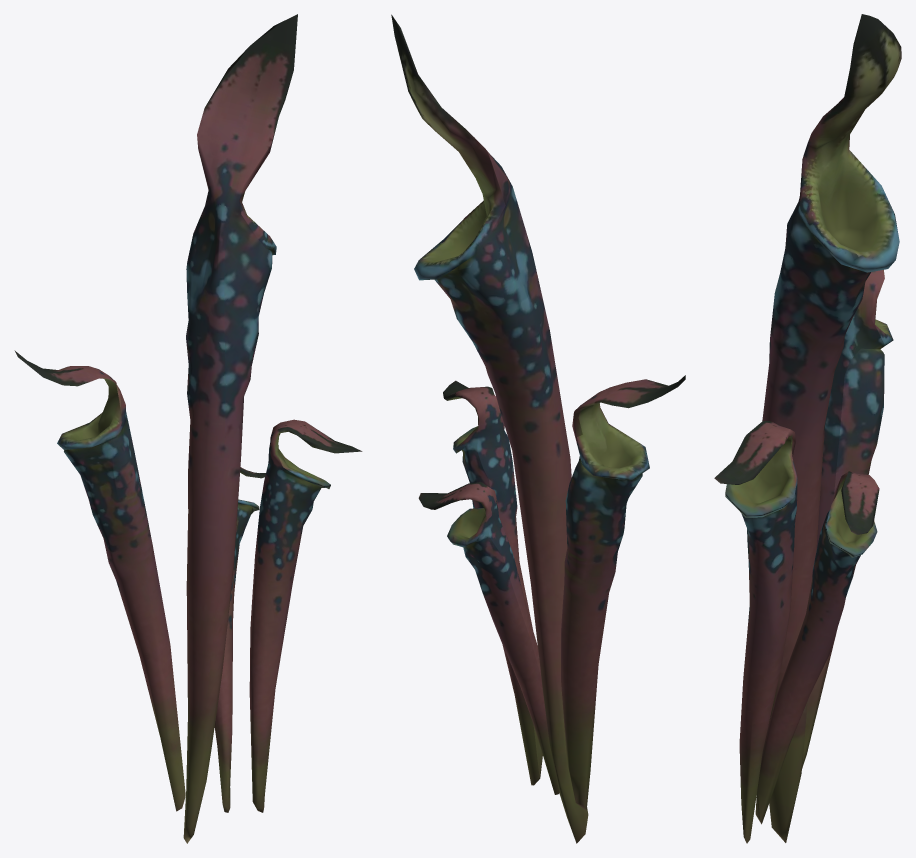
3 views of the same model, side by side, from view 1: azimuth 30°, elevation 25°; view 2: azimuth 150°, elevation 25°; view 3: azimuth 270°, elevation 25° (orthographic). The views are drawn at different scales.
Parts seen in each view (by area): view 1: SM_PitcherPlant_02_LOD0; view 2: SM_PitcherPlant_02_LOD0; view 3: SM_PitcherPlant_02_LOD0.
Boxes of the visible parts, x1,y1,x2,y2 form: SM_PitcherPlant_02_LOD0: [14, 14, 362, 843]; SM_PitcherPlant_02_LOD0: [391, 14, 685, 843]; SM_PitcherPlant_02_LOD0: [714, 14, 901, 843].
Bounding box in the file's own units: 0.4368 × 1.13 × 0.2103.
Materials: 1 (1 with a texture image).
